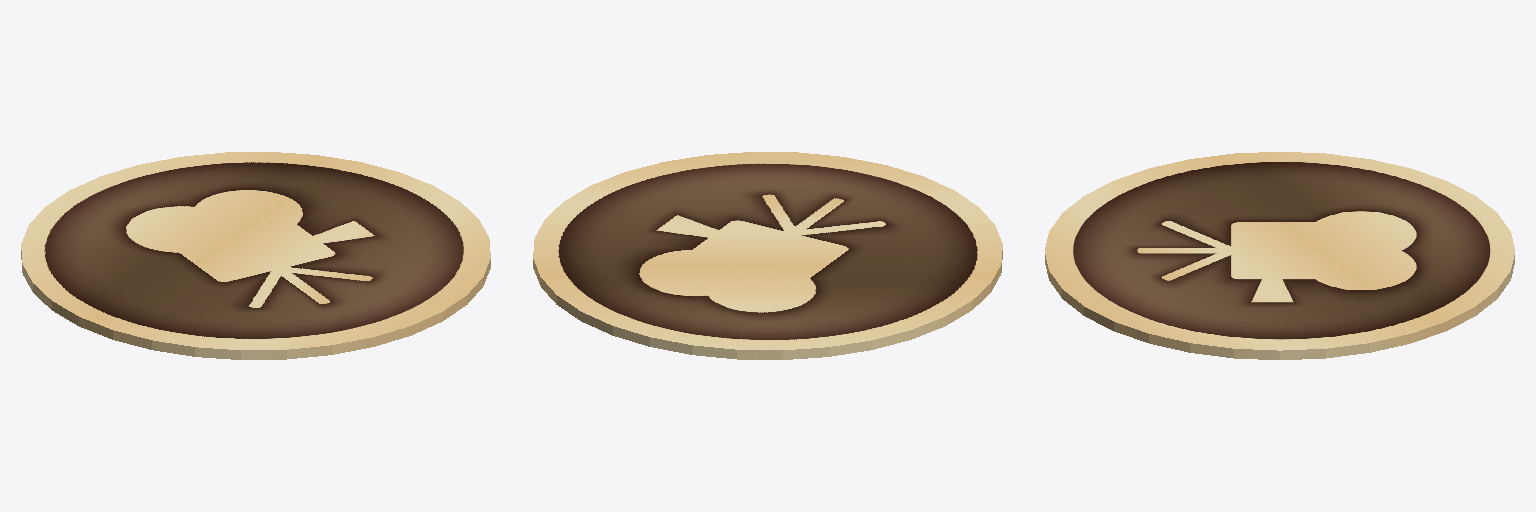
The picture shows the model from 3 angles: view 1: azimuth 30°, elevation 25°; view 2: azimuth 150°, elevation 25°; view 3: azimuth 270°, elevation 25°; orthographic projection.
Parts seen in each view (by area): view 1: Cylinder; view 2: Cylinder; view 3: Cylinder.
Boxes of the visible parts, <box> form: Cylinder: <box>21,152,490,359</box>; Cylinder: <box>533,152,1002,359</box>; Cylinder: <box>1045,152,1514,359</box>.
Bounding box in the file's own units: 4.31 × 0.0989 × 4.31.
1 materials, 1 textured.